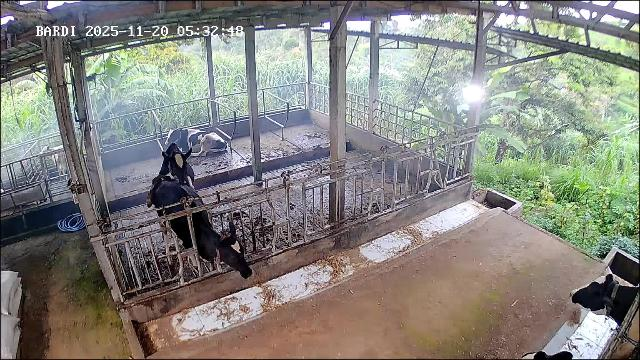mounting: (148, 143, 201, 211)
